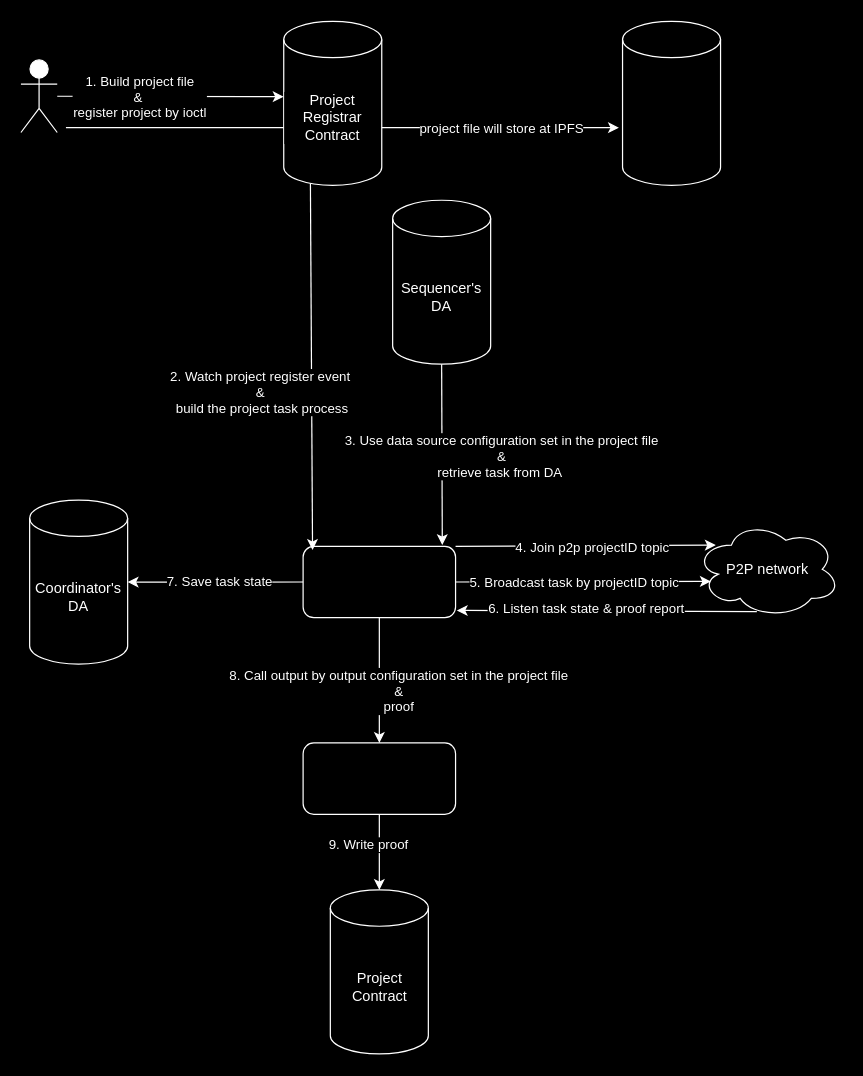
The diagram is 863 pixels wide and 1076 high, and some of its shapes have lost their labels. The shapes that lost their labels are listed below. From the top down, each one's centre as x and y in pixels, then its label:
the point at 671,102: IPFS
the point at 379,581: Task dispatcher
the point at 379,778: Output
